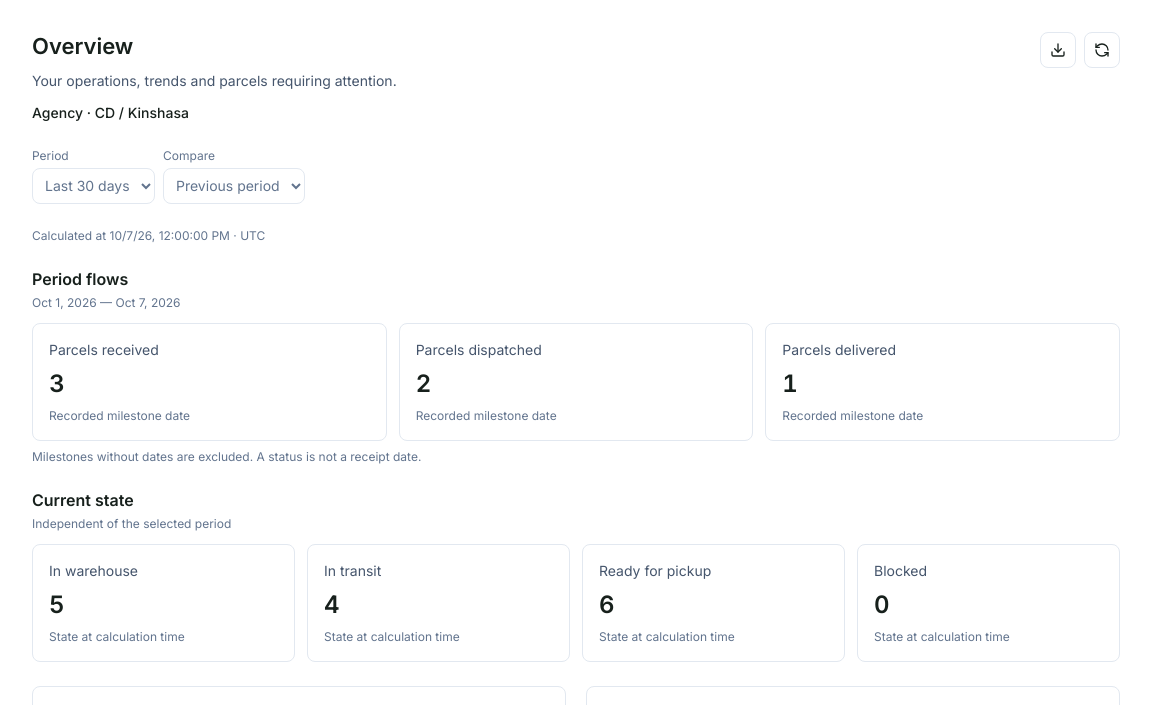
Test: cargo overview › keeps invalid date ranges local instead of querying the API
Expected: the heading "Period flows" is shown, x1=32 y1=269 x2=128 y2=289
Select "Custom" in the dropdown labelled "Period" at [94, 186], box x1=32 y1=168 x2=155 y2=204
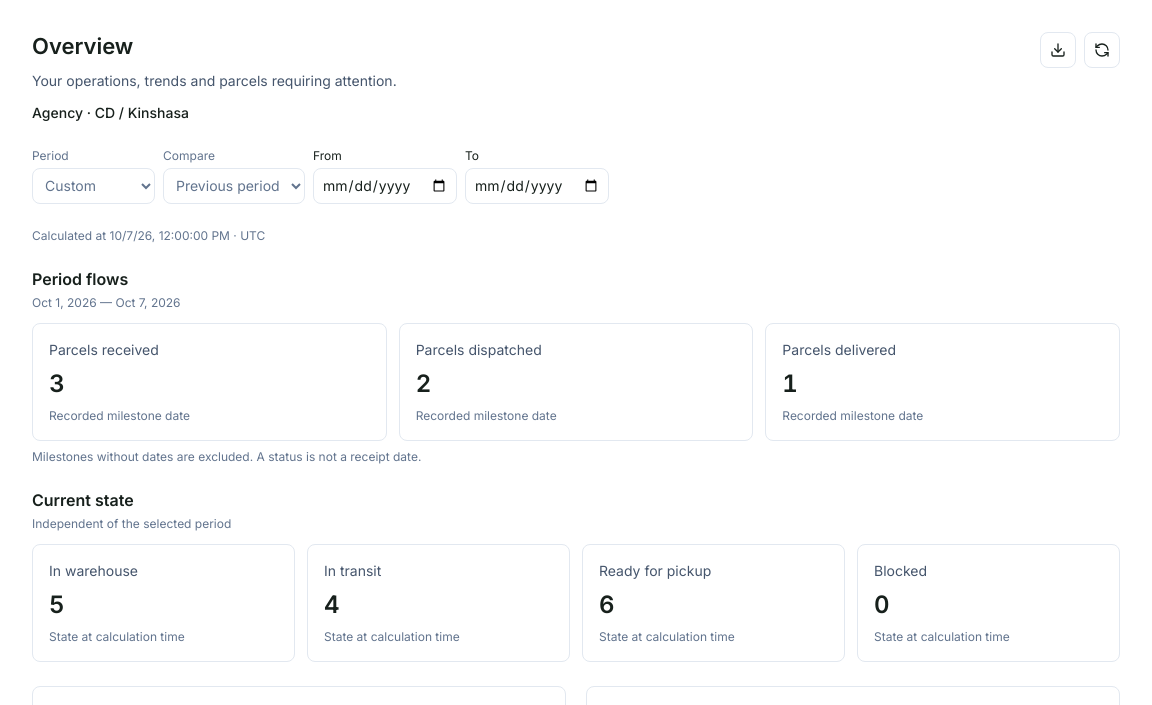
Type "2026-09-30" into the date field labelled "From".
click(385, 186); type("2026-09-30")  # box x1=313 y1=168 x2=457 y2=204
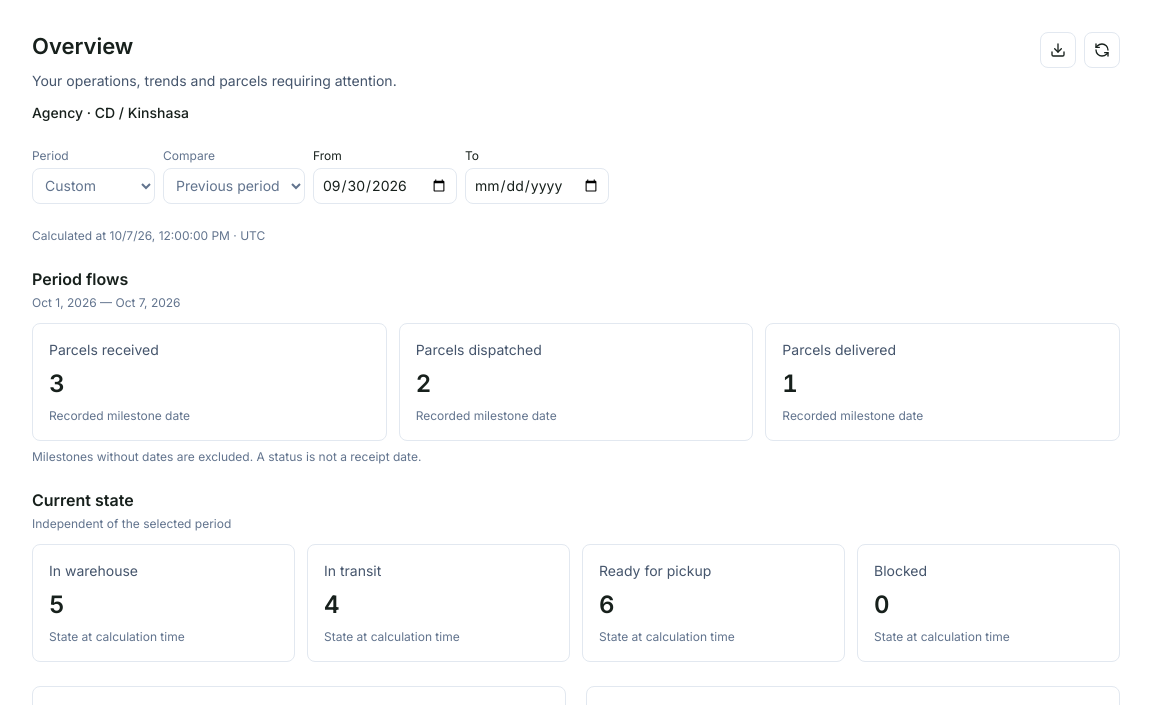
Type "2026-09-01" into the date field labelled "To".
click(537, 186); type("2026-09-01")  # box x1=465 y1=168 x2=609 y2=204
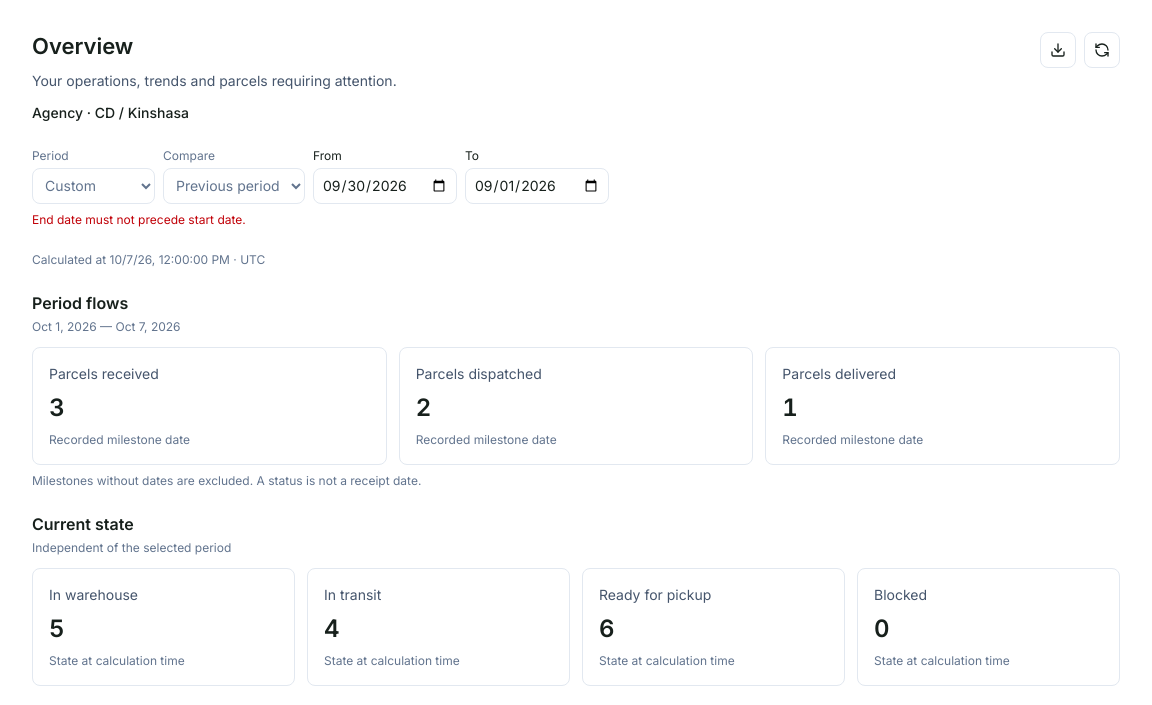
Now the message "End date must not precede start date." is shown, box x1=32 y1=212 x2=246 y2=227
